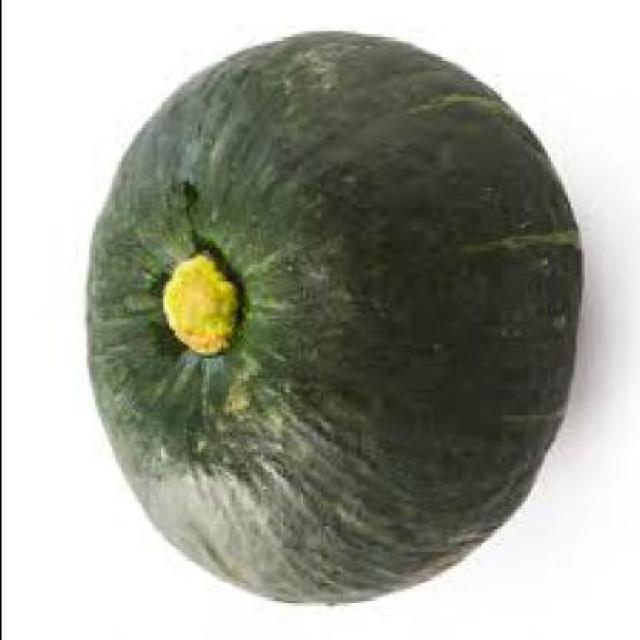BIODEGRADABLE: (79, 34, 581, 606)
